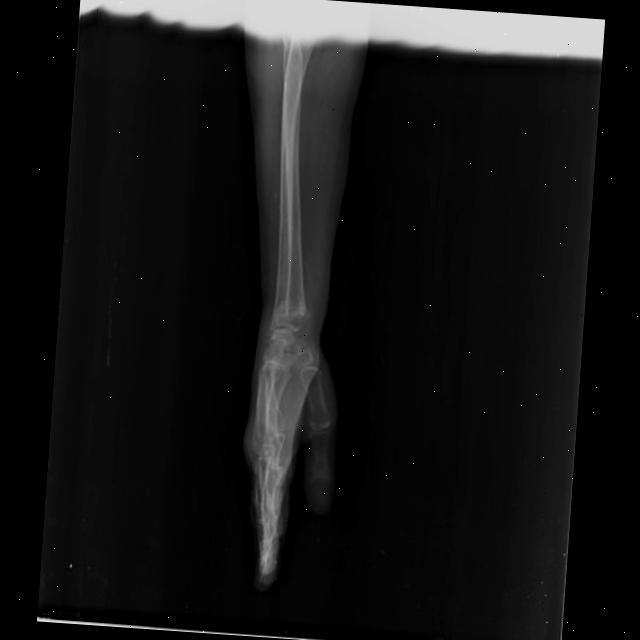Fracture: (268, 295, 312, 333)
